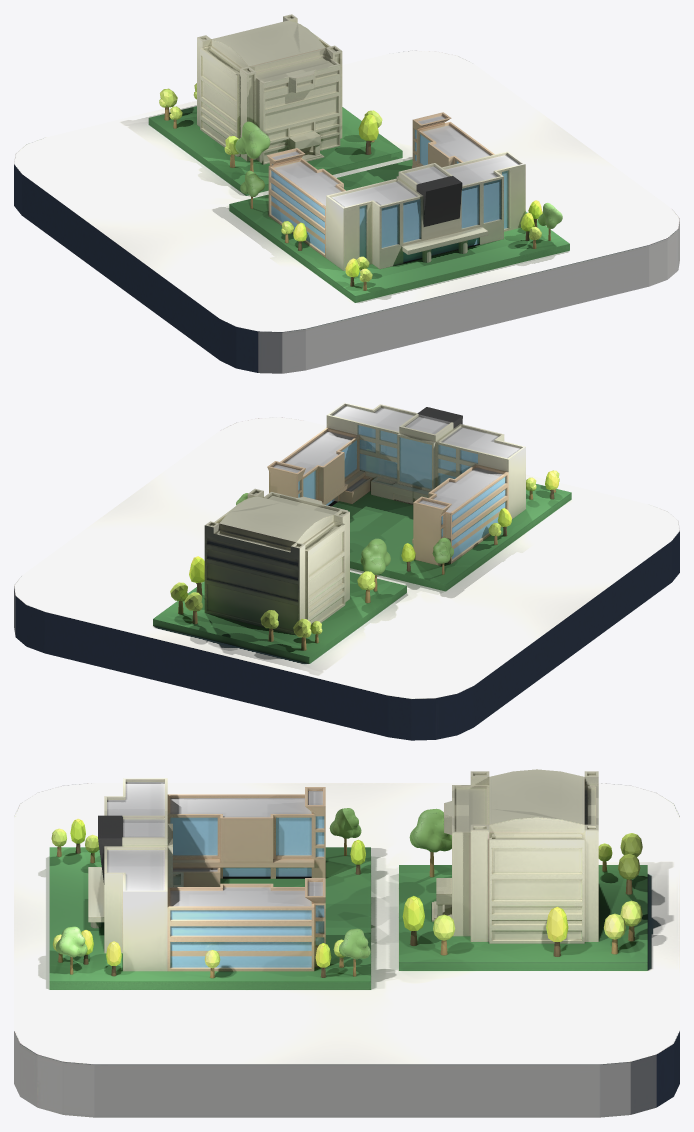
The picture shows the model from 3 angles, top to bottom: view 1: azimuth 30°, elevation 25°; view 2: azimuth 150°, elevation 25°; view 3: azimuth 270°, elevation 25°; orthographic projection. The views are drawn at different scales.
Visible parts, largest first — view 1: Cube.001; view 2: Cube.001; view 3: Cube.001.
Boxes of the visible parts, left/top/right/bottom form: Cube.001: left=14, top=14, right=679, bottom=373; Cube.001: left=14, top=402, right=679, bottom=740; Cube.001: left=14, top=769, right=679, bottom=1117.
Size of the model in its own units: 20 by 6 by 20.
Materials: 13 (13 with a texture image).
